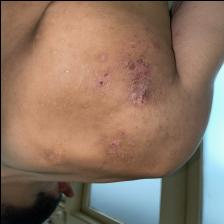DA: (73, 24, 169, 167)
